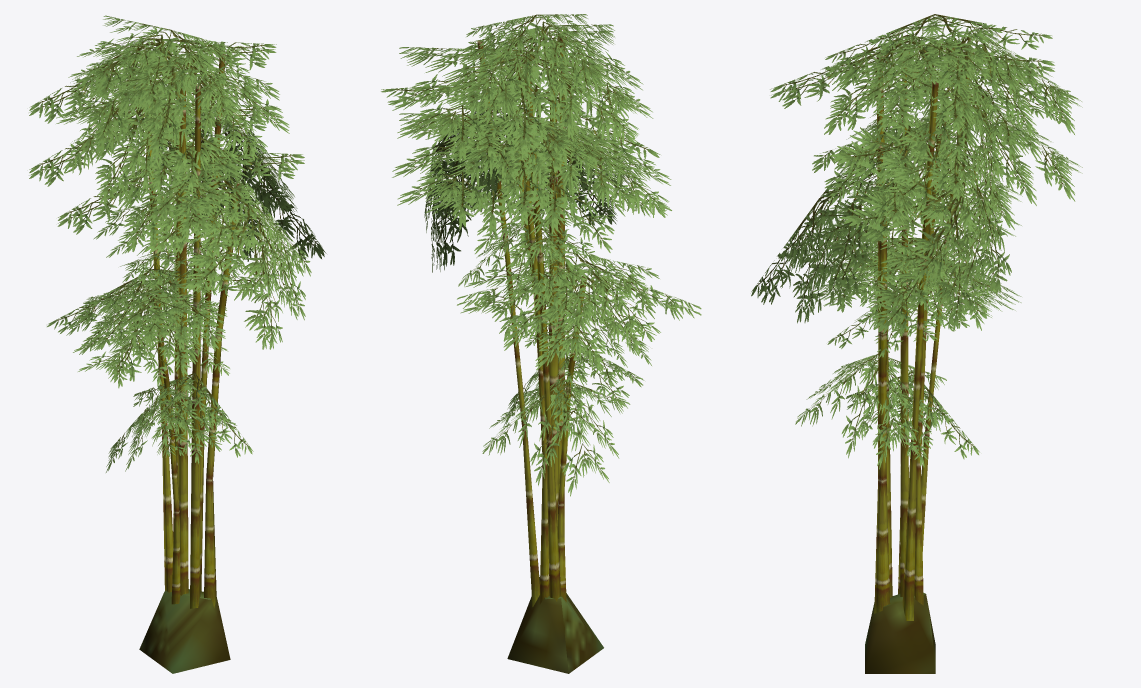
File: bamboo.glb
The picture shows the model from 3 angles, left to right: view 1: azimuth 30°, elevation 25°; view 2: azimuth 150°, elevation 25°; view 3: azimuth 270°, elevation 25°; orthographic projection. The views are drawn at different scales.
Visible parts, largest first — view 1: bamboo_part0; view 2: bamboo_part0; view 3: bamboo_part0.
Boxes of the visible parts, x1,y1,x2,y2 form: bamboo_part0: (29, 15, 326, 673); bamboo_part0: (381, 14, 701, 673); bamboo_part0: (751, 14, 1082, 673).
Bounding box in the file's own units: 2.05 × 4.5 × 2.43.
1 material, 1 textured.
